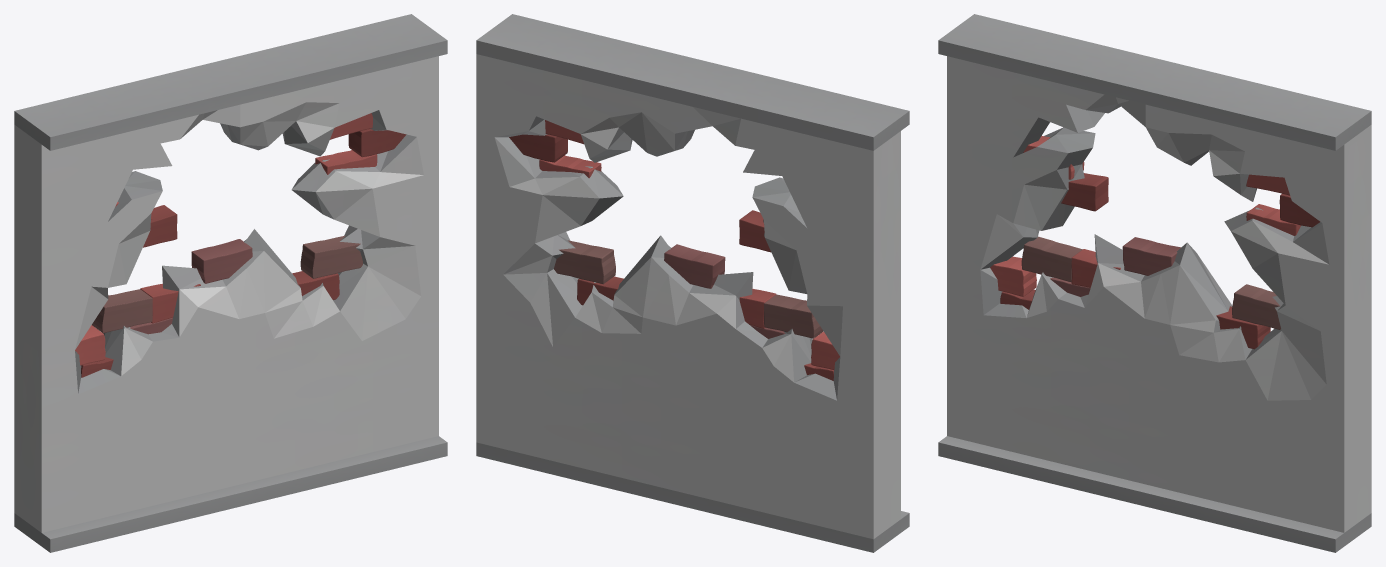
Rendered from wall_1_hole.dae.
3 views of the same model, side by side, from view 1: azimuth 30°, elevation 25°; view 2: azimuth 150°, elevation 25°; view 3: azimuth 330°, elevation 25° (orthographic).
Visible parts, largest first — view 1: wall_1_hole, brick3.001, brick9.001, brick1.001, brick7.001, brick4.001, brick10.001, brick6.001, brick13.001, brick2.001, brick8.001; view 2: wall_1_hole, brick3.001, brick9.001, brick1.001, brick7.001, brick4.001, brick10.001, brick6.001, brick13.001, brick2.001; view 3: wall_1_hole, brick9.001, brick1.001, brick3.001, brick4.001, brick13.001, brick2.001, brick10.001, brick6.001, brick7.001, brick8.001.
Boxes of the visible parts, left/top/right/bottom form: wall_1_hole: left=14, top=14, right=447, bottom=552; brick3.001: left=300, top=235, right=362, bottom=278; brick9.001: left=92, top=289, right=152, bottom=333; brick1.001: left=191, top=239, right=252, bottom=283; brick7.001: left=348, top=129, right=406, bottom=157; brick4.001: left=143, top=205, right=177, bottom=247; brick10.001: left=140, top=283, right=200, bottom=323; brick6.001: left=315, top=150, right=377, bottom=174; brick13.001: left=75, top=325, right=105, bottom=365; brick2.001: left=292, top=271, right=339, bottom=299; brick8.001: left=330, top=113, right=372, bottom=139; wall_1_hole: left=476, top=14, right=909, bottom=552; brick3.001: left=554, top=240, right=615, bottom=284; brick9.001: left=763, top=294, right=823, bottom=338; brick1.001: left=664, top=244, right=725, bottom=288; brick7.001: left=509, top=134, right=567, bottom=162; brick4.001: left=739, top=210, right=770, bottom=252; brick10.001: left=739, top=288, right=776, bottom=328; brick6.001: left=539, top=155, right=601, bottom=178; brick13.001: left=811, top=331, right=839, bottom=369; brick2.001: left=577, top=276, right=623, bottom=305; wall_1_hole: left=938, top=14, right=1371, bottom=552; brick9.001: left=1021, top=236, right=1082, bottom=282; brick1.001: left=1122, top=237, right=1180, bottom=275; brick3.001: left=1232, top=284, right=1280, bottom=329; brick4.001: left=1061, top=173, right=1108, bottom=211; brick13.001: left=990, top=256, right=1036, bottom=296; brick2.001: left=1216, top=306, right=1270, bottom=349; brick10.001: left=1071, top=249, right=1120, bottom=287; brick6.001: left=1246, top=204, right=1300, bottom=235; brick7.001: left=1279, top=193, right=1320, bottom=227; brick8.001: left=1246, top=174, right=1289, bottom=195.
Size of the model in its own units: 2 by 0.314 by 2.
